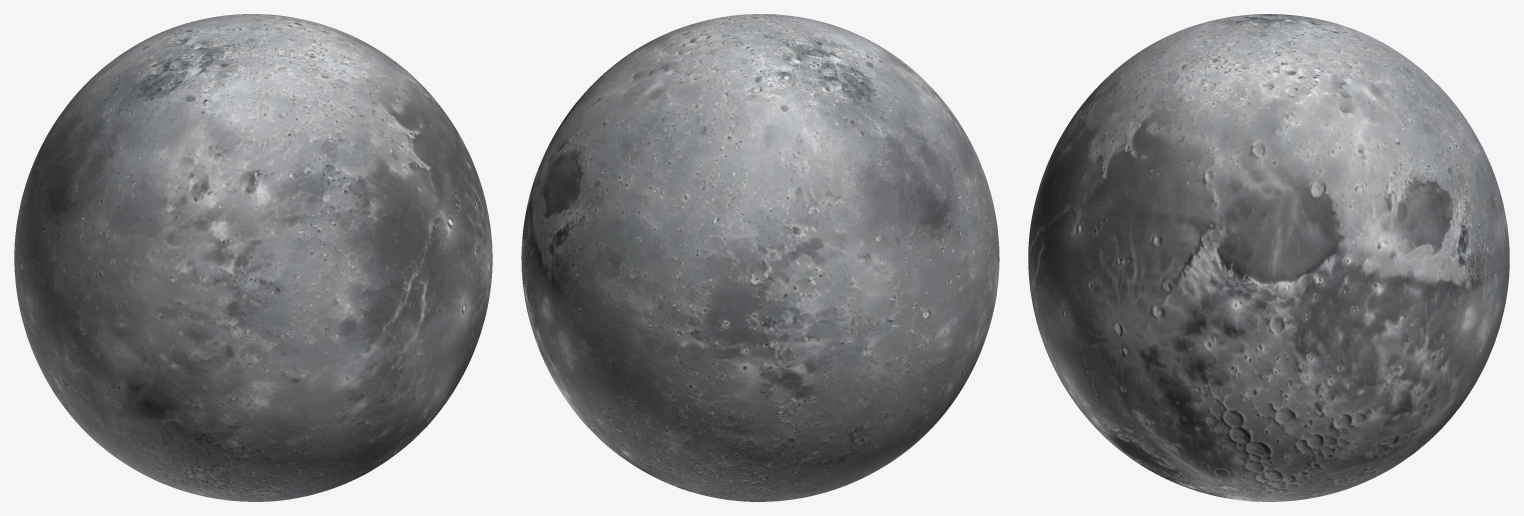
File: moon.glb
3 renders of one model, left to right at view 1: azimuth 30°, elevation 25°; view 2: azimuth 150°, elevation 25°; view 3: azimuth 270°, elevation 25°, orthographic.
Visible parts, largest first — view 1: node_0; view 2: node_0; view 3: node_0.
Boxes of the visible parts, x1,y1,x2,y2 form: node_0: (14, 14, 492, 501); node_0: (521, 14, 999, 501); node_0: (1028, 14, 1509, 501).
Bounding box in the file's own units: 1.17 × 1.2 × 1.18.
Materials: 1 (1 with a texture image).
